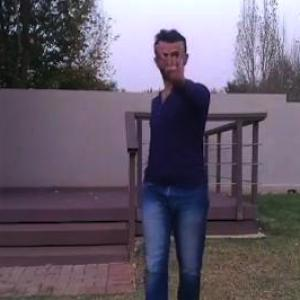takeoff-hand: (157, 28, 195, 82)
